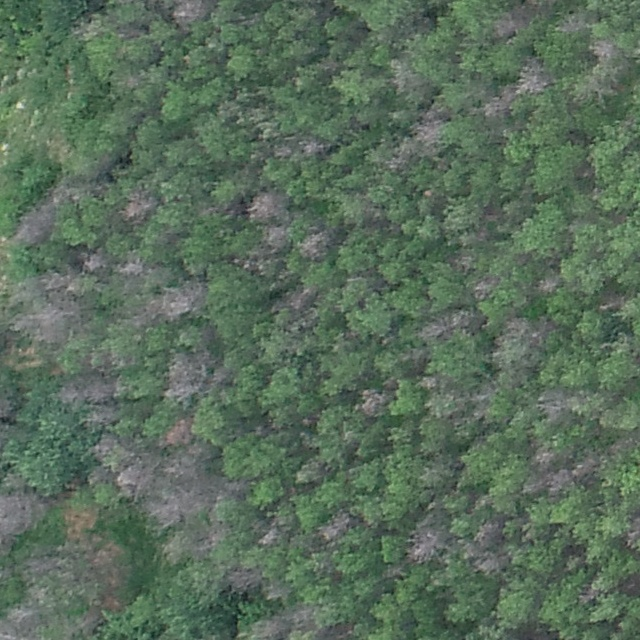unhealthy: (164, 348, 208, 404), (0, 487, 42, 538), (27, 301, 72, 348), (12, 202, 58, 246), (61, 371, 117, 407), (573, 66, 619, 109), (420, 307, 478, 341), (116, 455, 156, 503), (145, 478, 183, 527), (159, 279, 205, 319), (164, 442, 207, 483), (537, 385, 584, 422), (246, 185, 290, 224), (0, 600, 42, 640), (506, 314, 554, 348), (409, 105, 447, 144), (120, 190, 159, 226), (493, 5, 535, 38), (409, 526, 447, 562), (92, 431, 133, 464), (483, 83, 520, 119), (171, 0, 215, 30), (518, 58, 555, 93), (162, 528, 196, 566), (159, 414, 194, 449), (389, 59, 424, 94), (317, 510, 355, 542), (280, 283, 318, 311), (299, 231, 332, 263), (555, 7, 589, 36), (388, 139, 416, 174), (40, 267, 79, 292), (360, 389, 394, 417), (421, 373, 460, 397), (295, 132, 329, 159), (227, 566, 263, 591), (591, 42, 630, 65), (79, 246, 109, 275), (86, 409, 127, 430), (471, 273, 501, 301), (253, 615, 286, 640), (533, 443, 561, 472), (290, 601, 318, 630), (243, 247, 270, 277), (475, 518, 502, 547), (265, 224, 290, 254), (473, 555, 505, 577), (44, 180, 73, 203), (117, 258, 147, 280), (545, 469, 570, 495), (256, 523, 282, 548), (598, 291, 626, 314), (570, 457, 598, 479), (519, 474, 545, 497), (535, 275, 563, 294), (271, 143, 292, 160)
